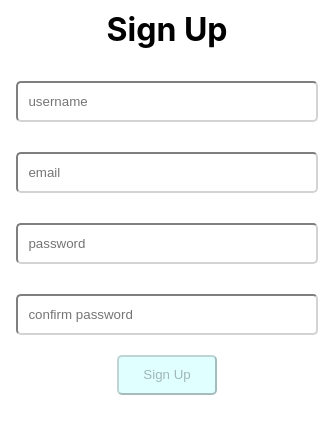
Scenario: Sign Up Page › form validation › email validation
The image size is (335, 427).
In the field with placeholder "username": (167, 101) [16, 81, 318, 122], type "Maxwell"
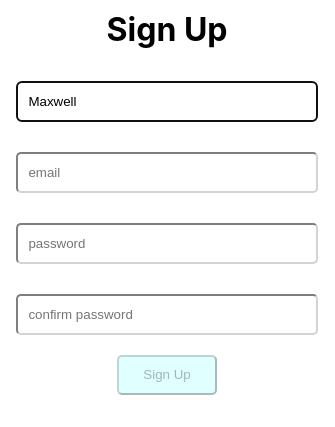
In the field with placeholder "email": (167, 172) [16, 152, 318, 193], type "not valid"
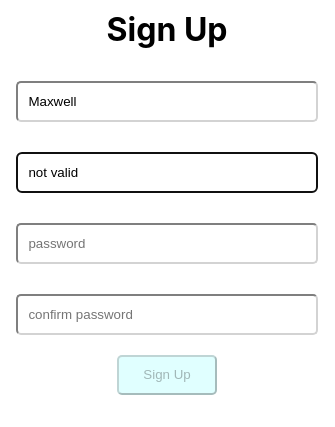
In the password field with placeholder "password": (167, 243) [16, 223, 318, 264], type "Password"
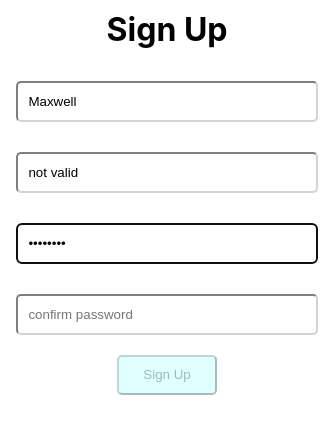
In the password field with placeholder "confirm password": (167, 314) [16, 294, 318, 335], type "Password"
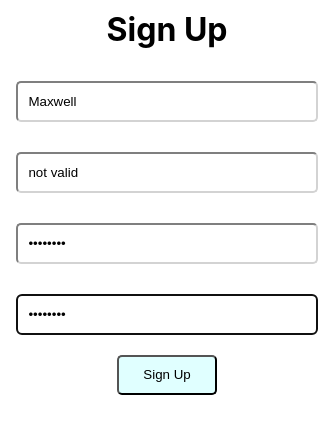
Click the button "Sign Up": (167, 375) [117, 355, 217, 395]
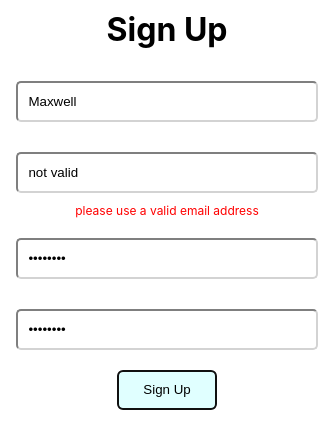
Check: the text "please use a valid email address" is shown, box [75, 203, 259, 228]
